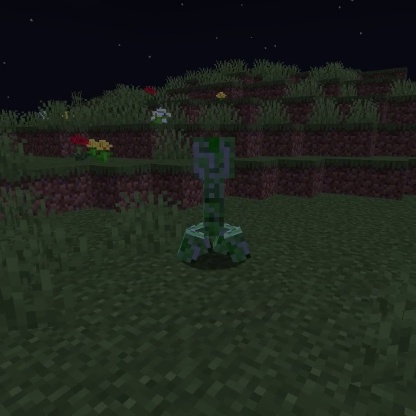creeper: (173, 133, 254, 270)
